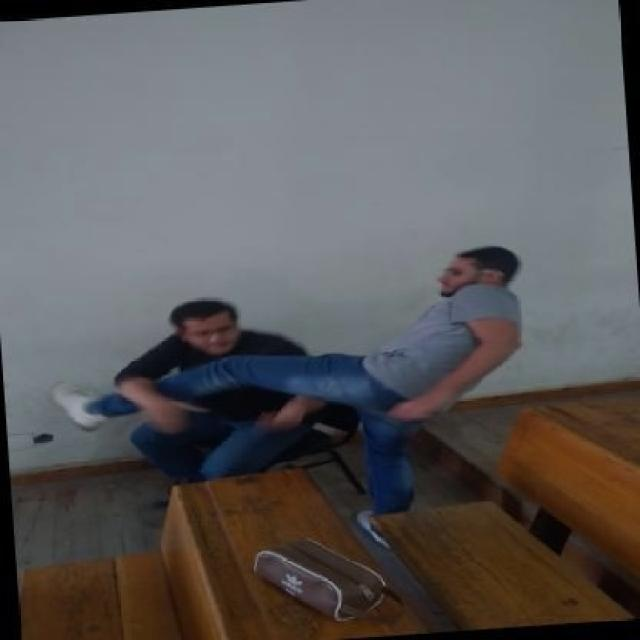fight: (80, 211, 572, 574)
